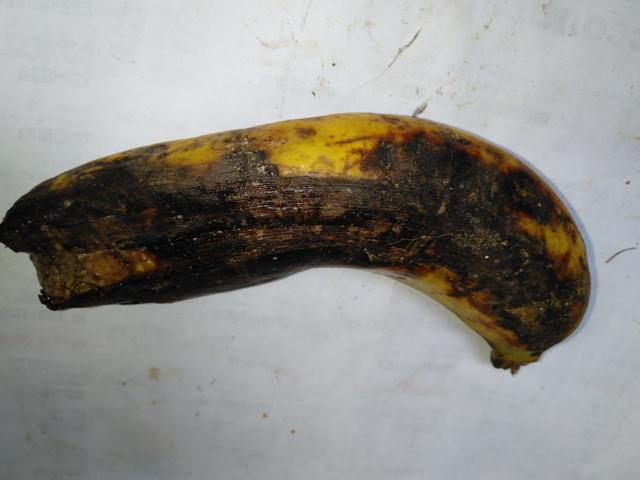rotten: (0, 101, 607, 369)
